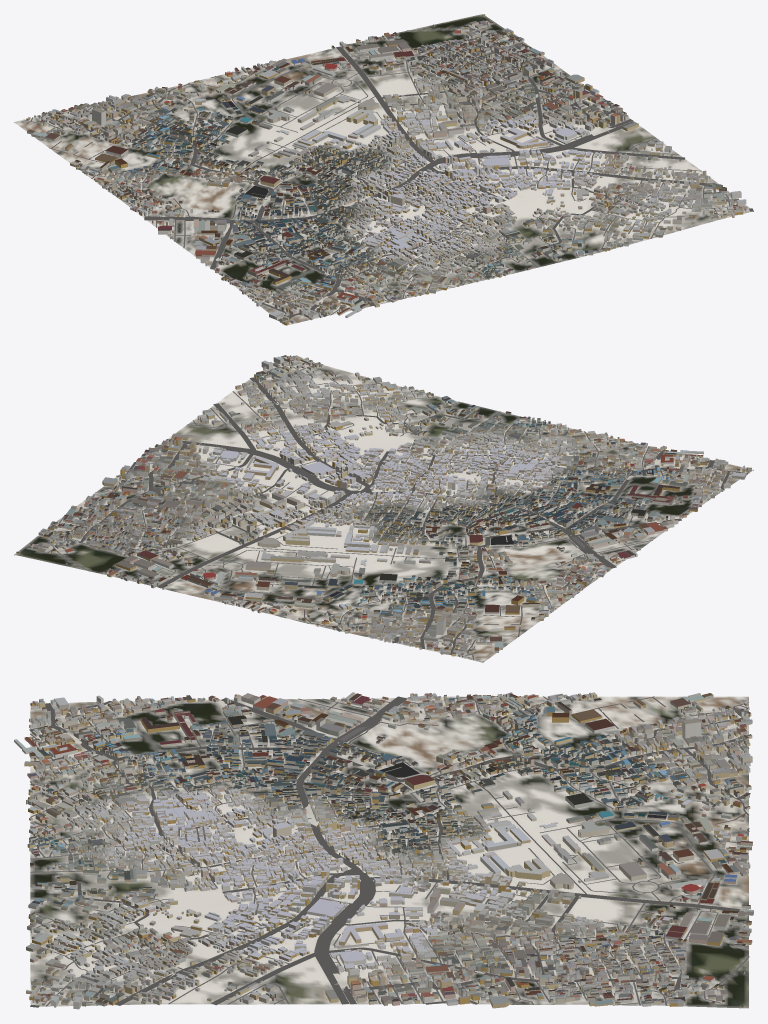
The picture shows the model from 3 angles, top to bottom: view 1: azimuth 30°, elevation 25°; view 2: azimuth 150°, elevation 25°; view 3: azimuth 270°, elevation 25°; orthographic projection. The views are drawn at different scales.
Visible parts, largest first — view 1: buildings, ground, roads; view 2: buildings, ground, roads; view 3: buildings, ground, roads.
Part boxes in pixels (x1,y1,x2,y2): buildings: (26,14,747,325); ground: (14,14,753,325); roads: (23,22,753,321); buildings: (16,355,751,659); ground: (14,356,753,662); roads: (37,355,747,660); buildings: (14,692,753,1009); ground: (30,696,748,1008); roads: (29,696,750,1007).
Bounding box in the file's own units: 1431 × 63.94 × 1442.
